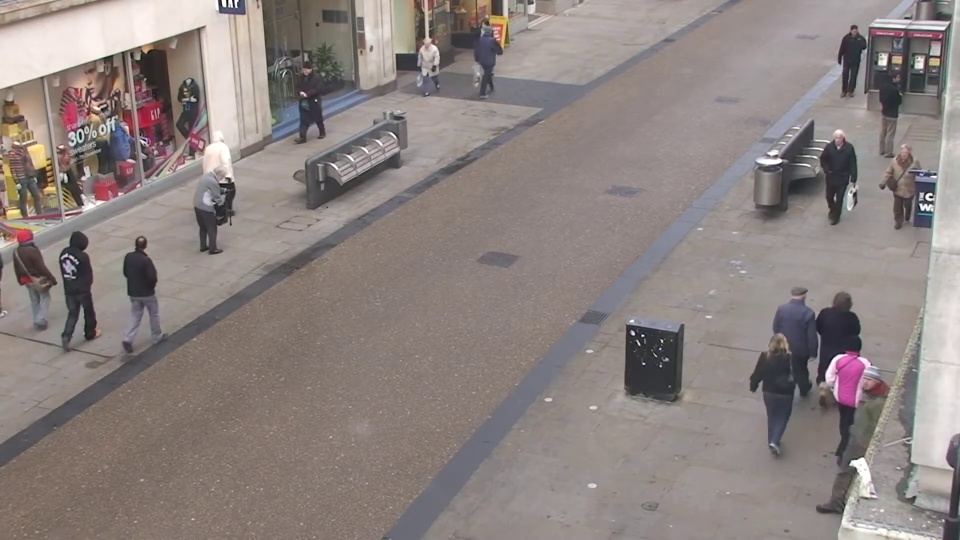pedestrian: (821, 357, 882, 520), (824, 317, 882, 468), (750, 320, 805, 469), (813, 281, 867, 421), (12, 218, 71, 339), (776, 274, 827, 412), (62, 221, 117, 342), (128, 223, 179, 344), (876, 140, 921, 245), (204, 162, 245, 268), (814, 128, 853, 228), (212, 126, 250, 222), (872, 67, 911, 154), (832, 25, 865, 100), (288, 60, 318, 139), (411, 34, 437, 106), (480, 21, 505, 90), (469, 15, 494, 83)
